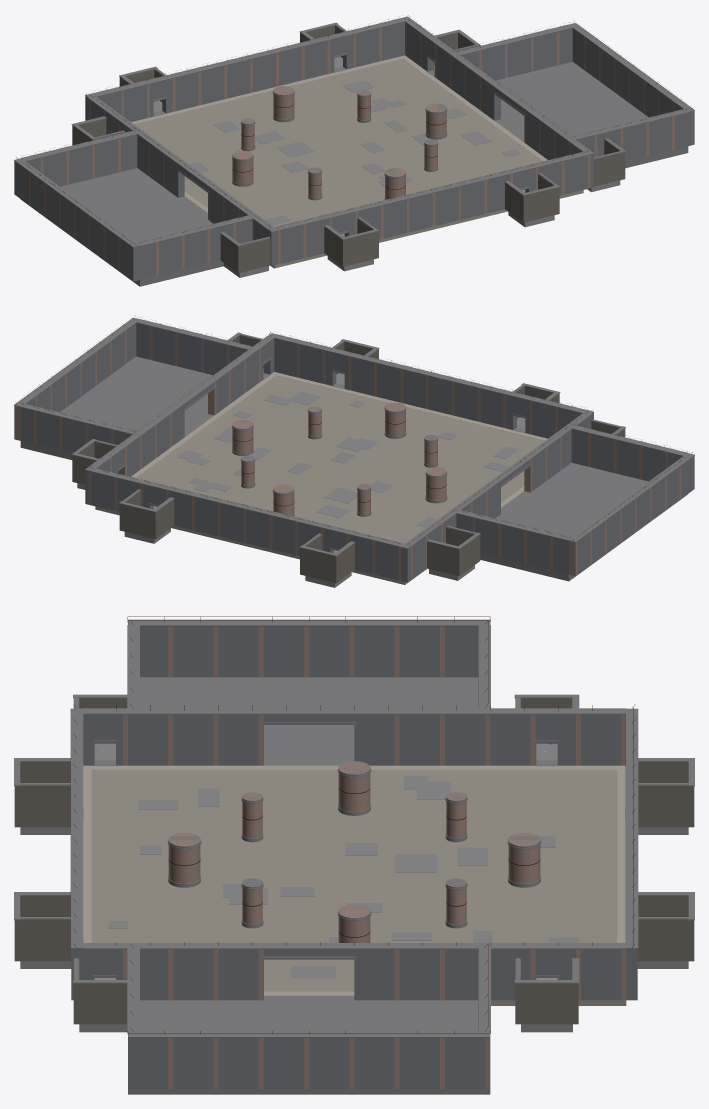
The model's file is map_zombies_arena.gltf.
The picture shows the model from 3 angles, top to bottom: view 1: azimuth 30°, elevation 25°; view 2: azimuth 150°, elevation 25°; view 3: azimuth 270°, elevation 25°; orthographic projection. The views are drawn at different scales.
Parts seen in each view (by area): view 1: map_zombies_arena, map_zombies_arena_ground; view 2: map_zombies_arena, map_zombies_arena_ground; view 3: map_zombies_arena, map_zombies_arena_ground.
Part boxes in pixels (left/top/right/bottom): map_zombies_arena: left=14, top=15, right=694, bottom=281; map_zombies_arena_ground: left=21, top=55, right=688, bottom=286; map_zombies_arena: left=14, top=315, right=694, bottom=583; map_zombies_arena_ground: left=20, top=356, right=687, bottom=587; map_zombies_arena: left=14, top=616, right=694, bottom=1088; map_zombies_arena_ground: left=20, top=677, right=688, bottom=1094.
Bounding box in the file's own units: 87.12 × 6.56 × 60.12.
